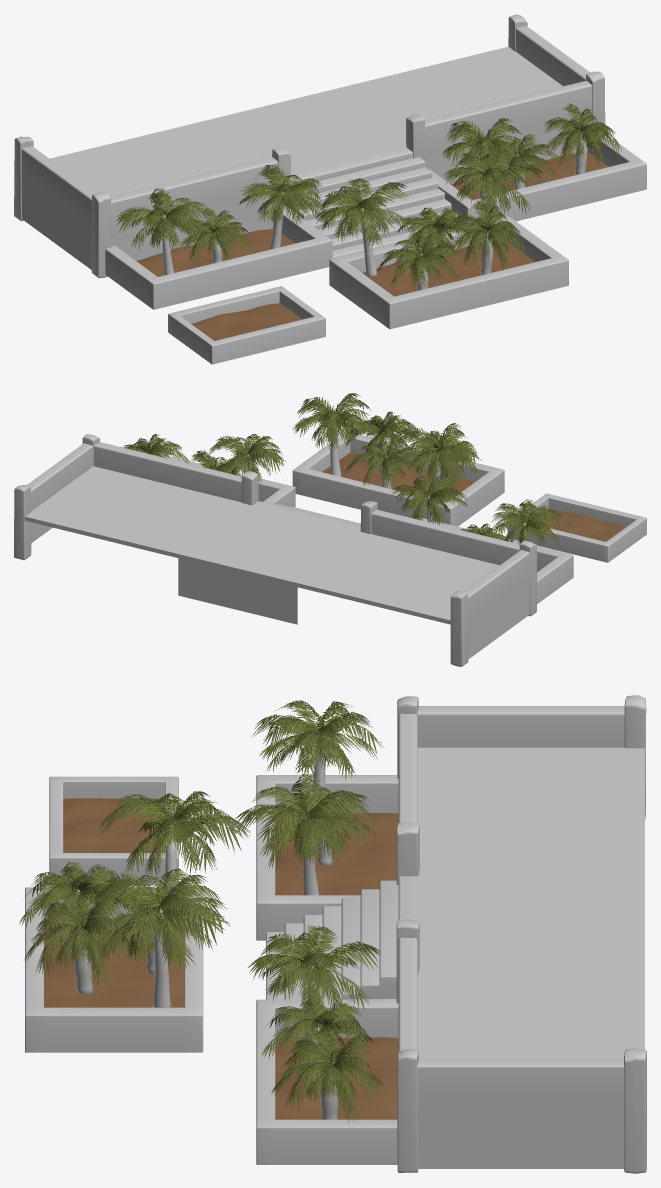
The model's file is Palm_Plants_Stairs_Platform_A1.fbx.
The picture shows the model from 3 angles, top to bottom: view 1: azimuth 30°, elevation 25°; view 2: azimuth 150°, elevation 25°; view 3: azimuth 270°, elevation 25°; orthographic projection. The views are drawn at different scales.
Parts seen in each view (by area): view 1: Stairs_Platform_A1, Palm_Plants_Group_B1, Large_Dirt_Plot_A1, Palm_Plants_Group_A2, Large_Dirt_Plot_A2, Palm_Plants_Group_A1; view 2: Stairs_Platform_A1, Palm_Plants_Group_B1, Large_Dirt_Plot_A1, Large_Dirt_Plot_A2, Palm_Plants_Group_A2, Palm_Plants_Group_A1; view 3: Stairs_Platform_A1, Palm_Plants_Group_B1, Large_Dirt_Plot_A1, Palm_Plants_Group_A1, Palm_Plants_Group_A2, Large_Dirt_Plot_A2.
Boxes of the visible parts, bbox=[...] form: Stairs_Platform_A1: bbox=[14, 14, 646, 309]; Palm_Plants_Group_B1: bbox=[314, 148, 542, 290]; Large_Dirt_Plot_A1: bbox=[329, 216, 568, 329]; Palm_Plants_Group_A2: bbox=[115, 165, 324, 275]; Large_Dirt_Plot_A2: bbox=[168, 286, 325, 364]; Palm_Plants_Group_A1: bbox=[442, 103, 621, 198]; Stairs_Platform_A1: bbox=[14, 434, 573, 666]; Palm_Plants_Group_B1: bbox=[292, 393, 481, 492]; Large_Dirt_Plot_A1: bbox=[292, 432, 504, 526]; Large_Dirt_Plot_A2: bbox=[507, 493, 646, 562]; Palm_Plants_Group_A2: bbox=[392, 475, 563, 546]; Palm_Plants_Group_A1: bbox=[121, 434, 286, 483]; Stairs_Platform_A1: bbox=[256, 695, 646, 1173]; Palm_Plants_Group_B1: bbox=[19, 791, 250, 1007]; Large_Dirt_Plot_A1: bbox=[25, 887, 203, 1052]; Palm_Plants_Group_A1: bbox=[248, 925, 383, 1123]; Palm_Plants_Group_A2: bbox=[235, 700, 383, 895]; Large_Dirt_Plot_A2: bbox=[49, 776, 178, 884].
Size of the model in its own units: 2288 by 445 by 1669.
